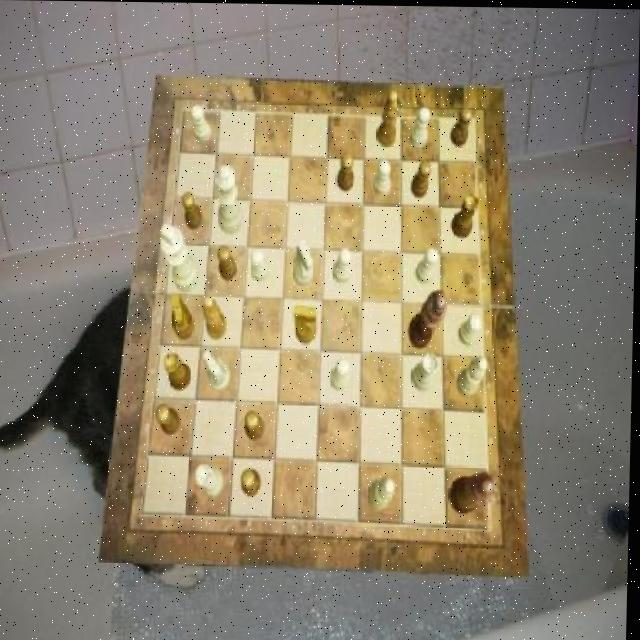bishop: (377, 90, 400, 147), (203, 293, 227, 339)
black-bishop: (409, 288, 449, 347)
black-king: (172, 293, 196, 339), (294, 305, 318, 344)
black-knight: (451, 107, 472, 146), (156, 403, 181, 435), (182, 191, 203, 229), (411, 159, 431, 196), (218, 244, 239, 279), (337, 152, 354, 190), (242, 469, 263, 497), (245, 411, 265, 440)
black-pawn: (452, 470, 499, 513)
black-queen: (451, 192, 479, 237), (164, 351, 192, 390)
black-rook: (459, 356, 489, 397), (370, 475, 396, 509)
white-bishop: (159, 224, 201, 292)
white-king: (202, 350, 231, 392), (295, 239, 316, 285)
white-knight: (415, 246, 439, 283), (410, 107, 431, 148), (191, 104, 212, 142), (459, 313, 482, 346), (334, 247, 353, 283), (374, 160, 393, 196), (331, 358, 351, 392), (252, 249, 271, 282)
white-pawn: (215, 166, 243, 234)
white-queen: (412, 353, 440, 391), (198, 464, 226, 498)
